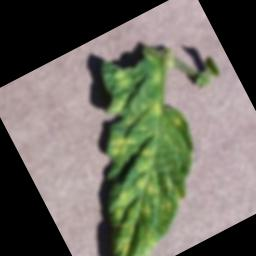Leaf_Mold: (25, 34, 246, 256)
